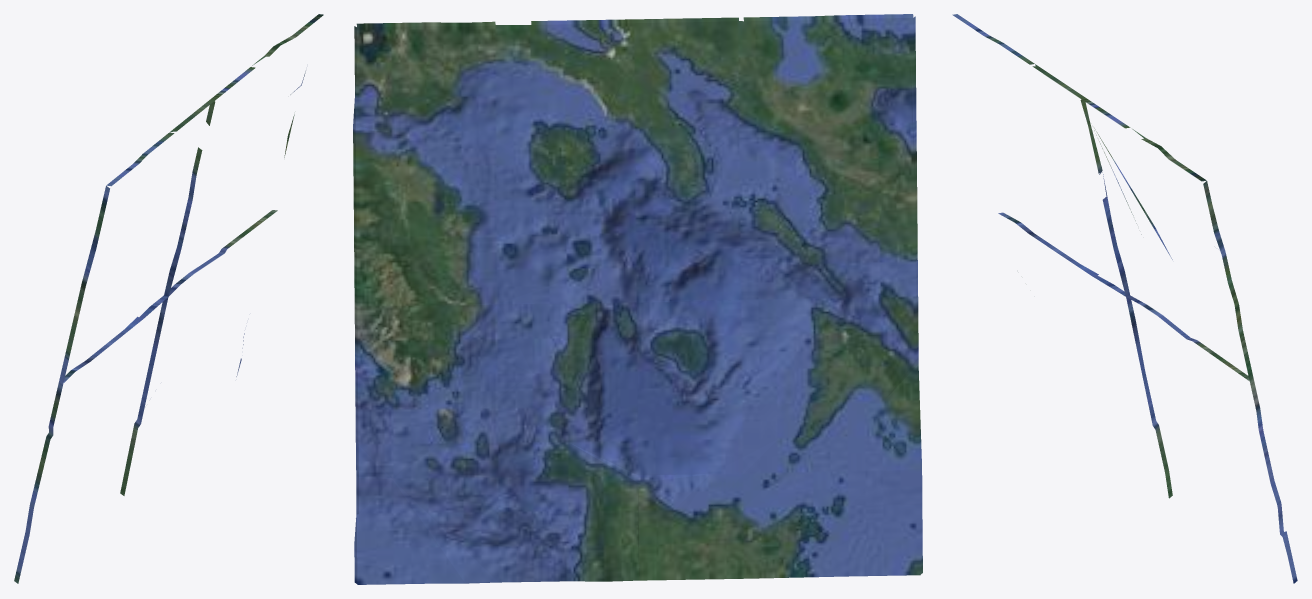
The picture shows the model from 3 angles, left to right: view 1: azimuth 30°, elevation 25°; view 2: azimuth 150°, elevation 25°; view 3: azimuth 270°, elevation 25°; orthographic projection. The views are drawn at different scales.
Bounding box in the file's own units: 298523 × 307668 × 226281.
Materials: 1 (1 with a texture image).
